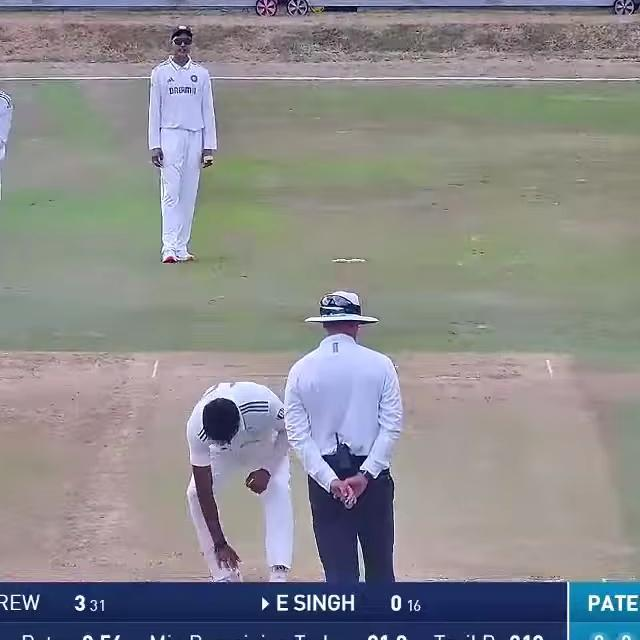umpire: (268, 280, 412, 586)
